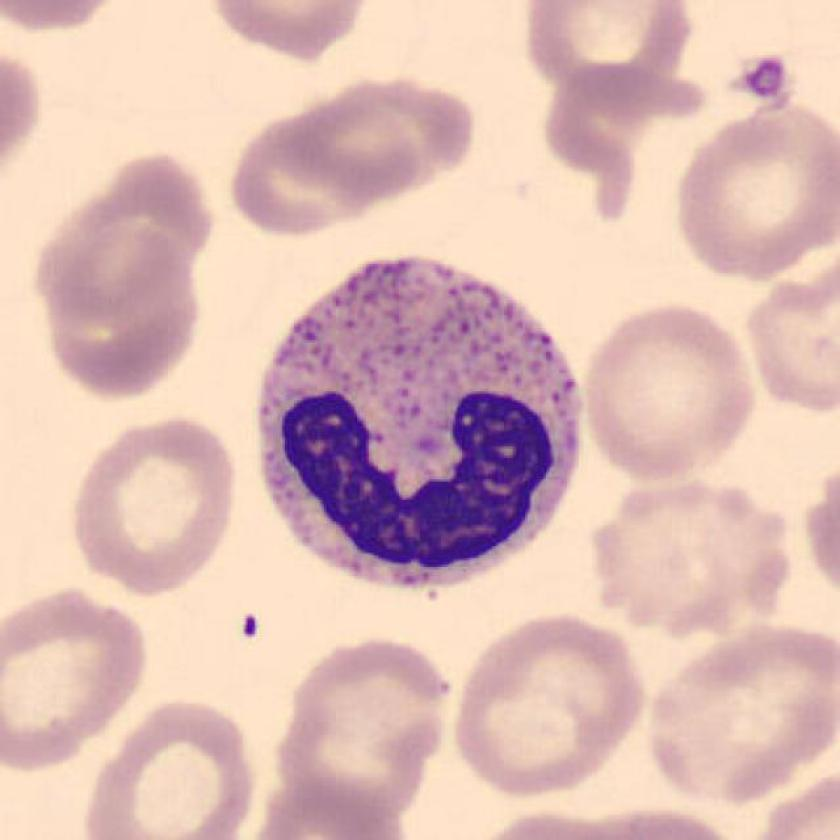neutrophil: (260, 260, 583, 588)
